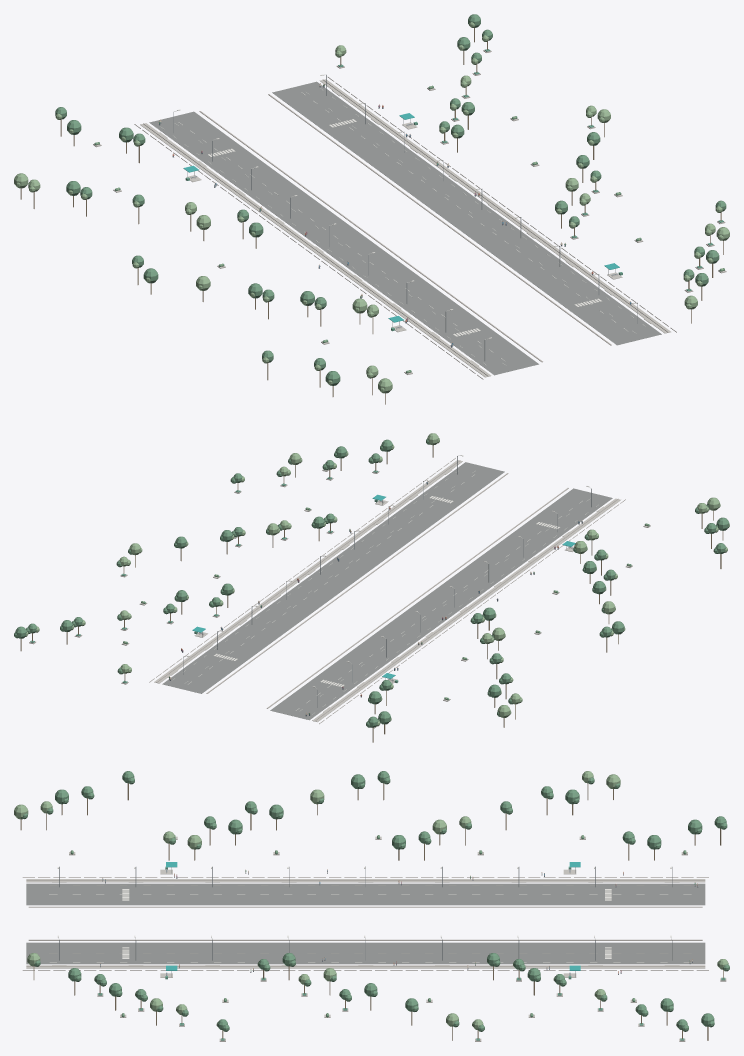
The picture shows the model from 3 angles, top to bottom: view 1: azimuth 30°, elevation 25°; view 2: azimuth 150°, elevation 25°; view 3: azimuth 270°, elevation 25°; orthographic projection. The views are drawn at different scales.
Visible parts, largest first — view 1: nearby/13; view 2: nearby/13; view 3: nearby/13.
Part boxes in pixels (x1=…): nearby/13: x1=14, y1=14, x2=729, y2=404; nearby/13: x1=14, y1=433, x2=729, y2=742; nearby/13: x1=14, y1=771, x2=729, y2=1041.
Bounding box in the file's own units: 228 × 12.36 × 280.
